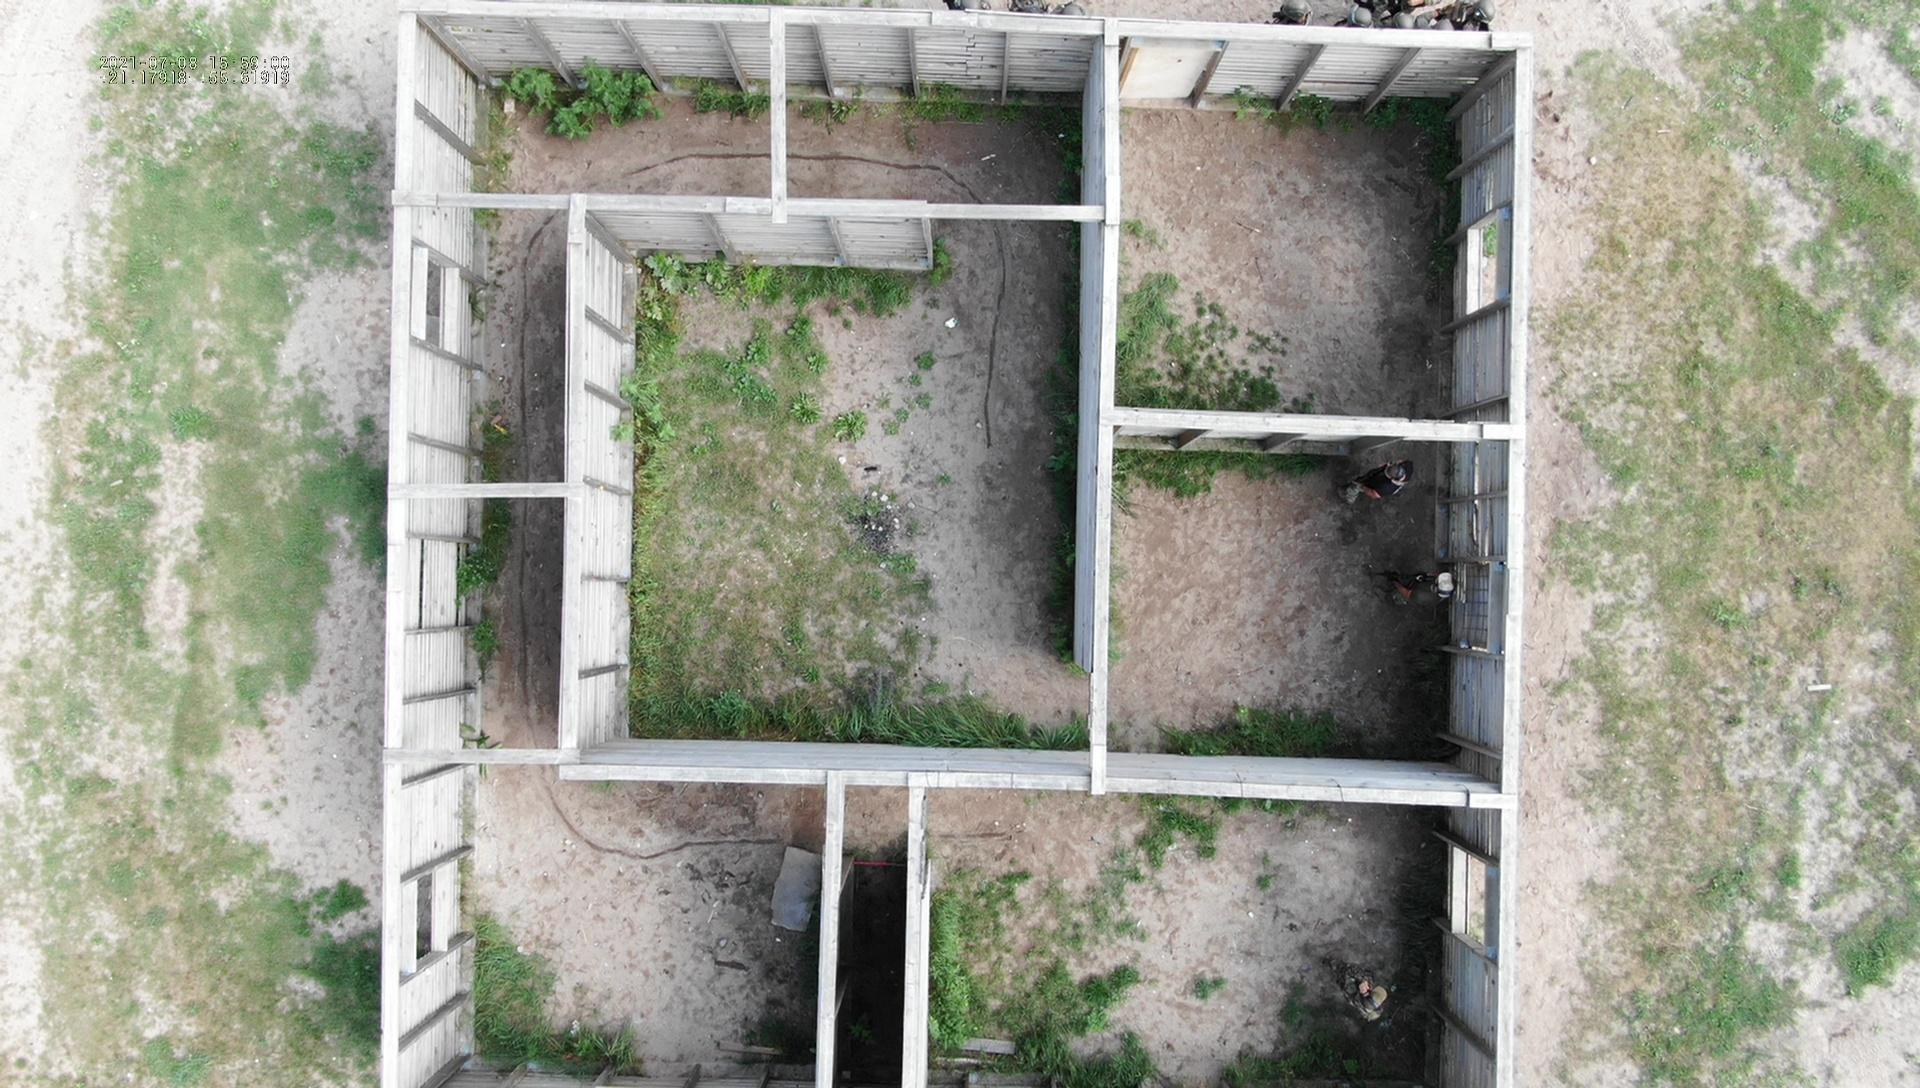Soldier: (1369, 559, 1466, 645), (1333, 443, 1422, 531), (1328, 946, 1407, 1026)
